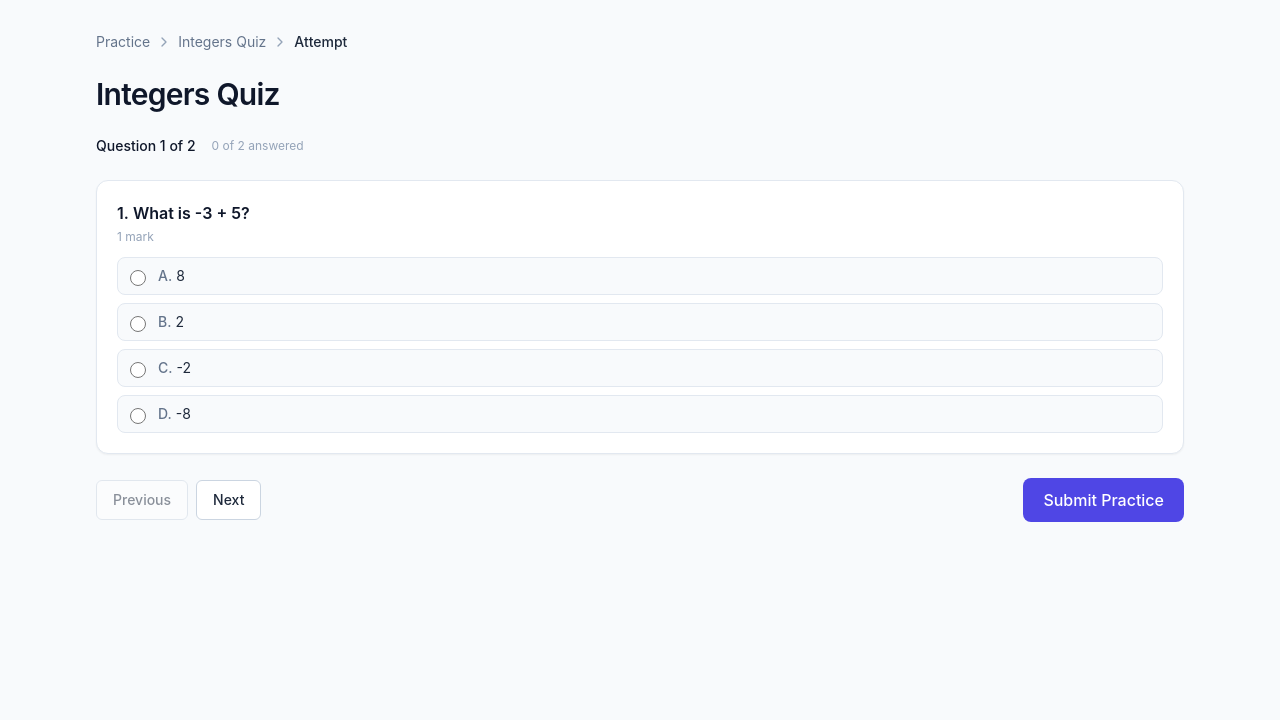
it: Attempt player (AttemptPage) › preserves the selection and offers retry when saving fails
The width and height of the screenshot is (1280, 720).
Check: the text "What is -3 + 5?" is shown, box x1=133 y1=203 x2=250 y2=223
Click the radio button labelled "B. 2". click: (138, 324)
box: x1=130 y1=316 x2=146 y2=332
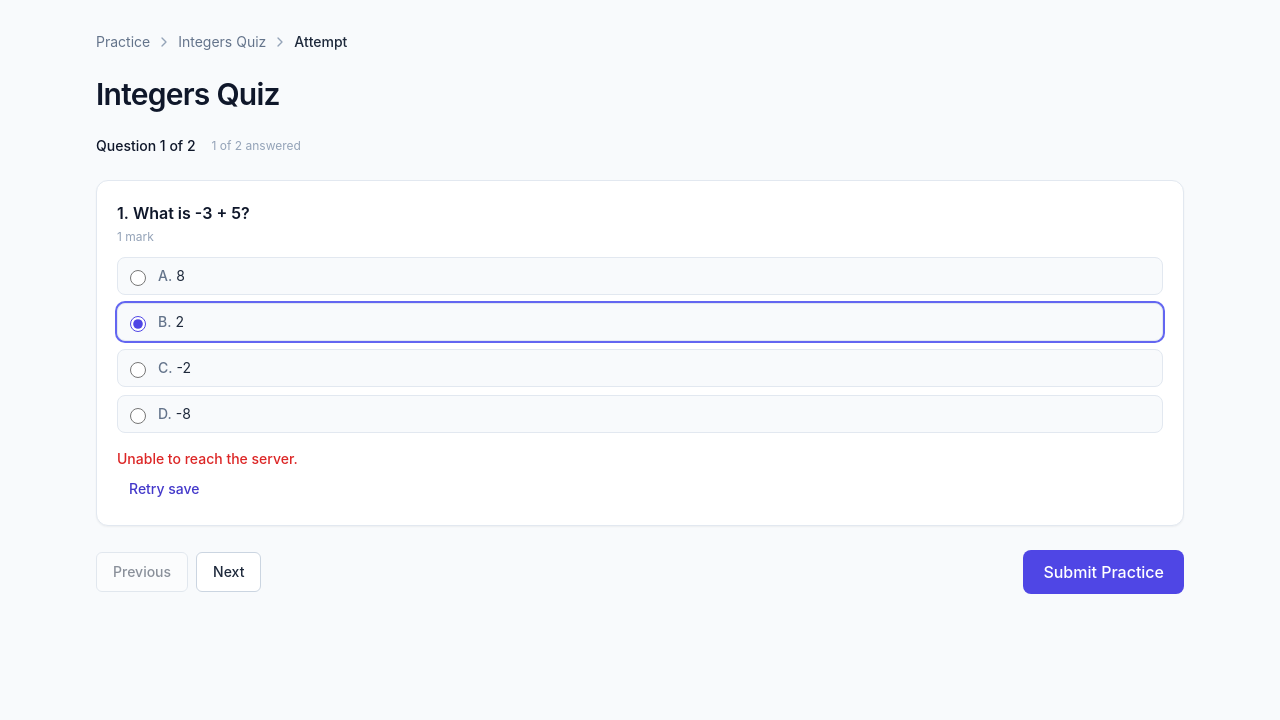
Check: the radio button labelled "B. 2" is checked, box x1=130 y1=316 x2=146 y2=332
Check: the message shows "Unable to reach the server.", box x1=117 y1=450 x2=298 y2=467
Click the button "Retry save". click: (164, 489)
box: x1=117 y1=473 x2=212 y2=505
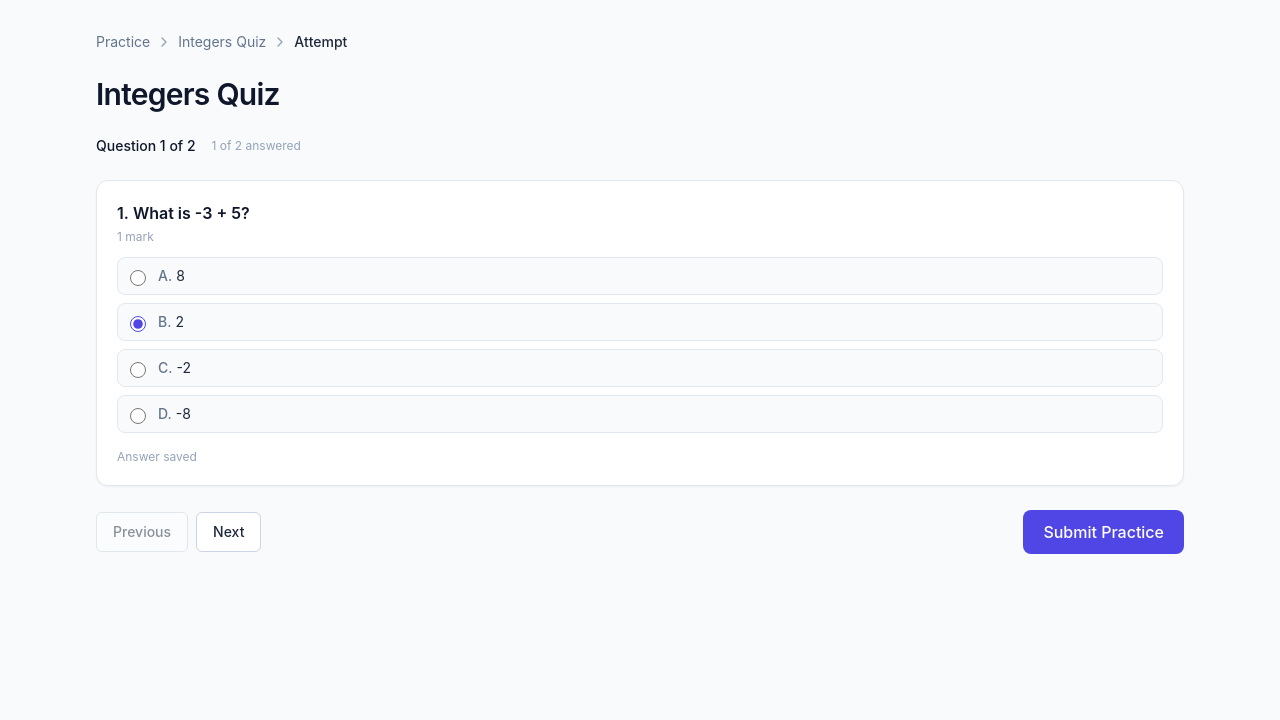
Check: the text "Answer saved" is shown, box x1=117 y1=449 x2=197 y2=464
